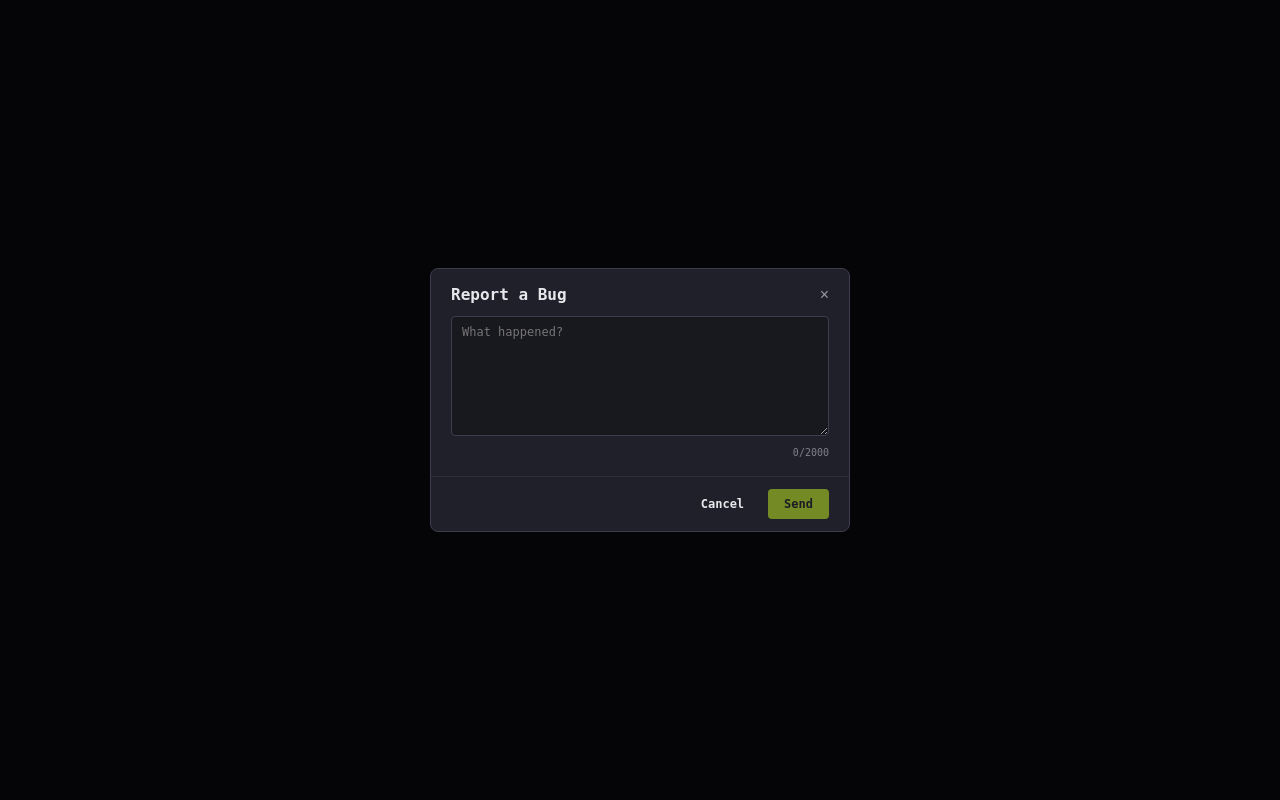
Test: FeedbackDialog › Send button becomes enabled when text is entered
Type "Something broke" into the text box with class "feedback-dialog__textarea" at (640, 376), box [451,316,829,436]
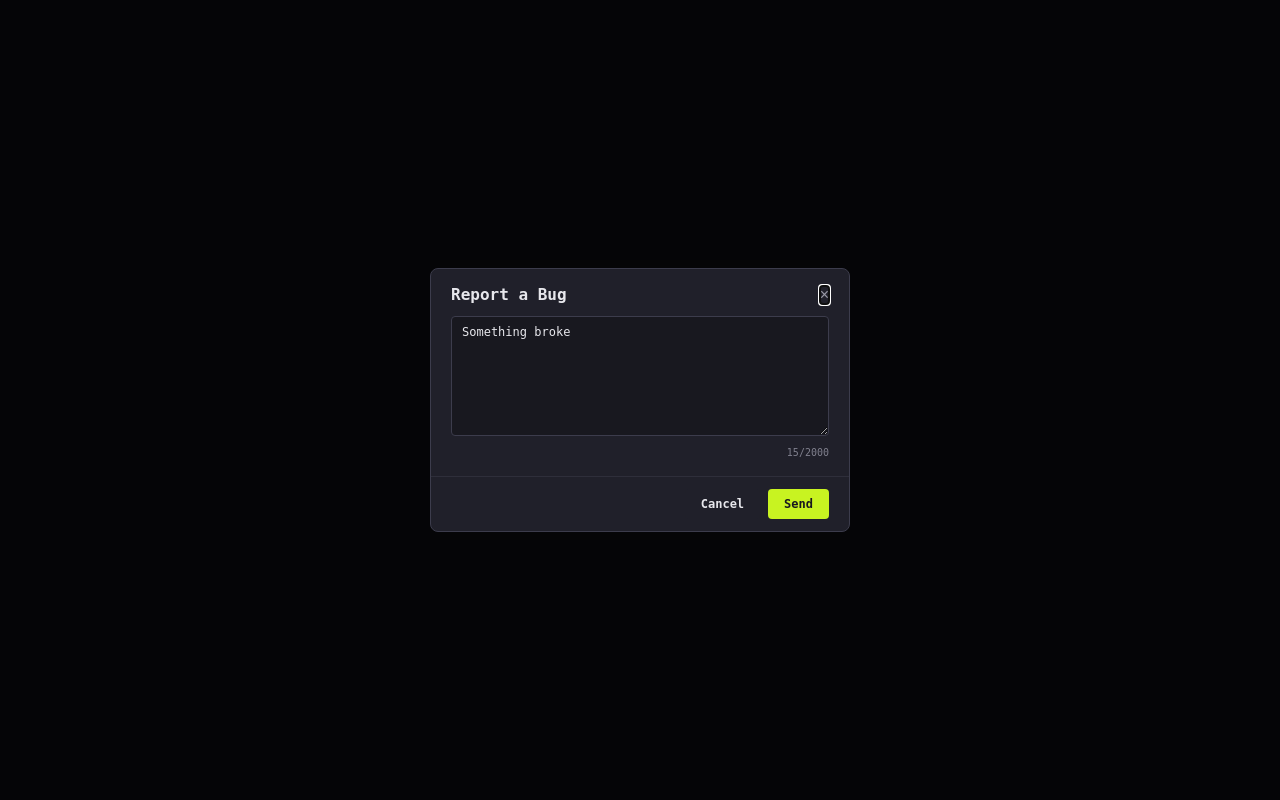
Result: the button with class "feedback-dialog__btn--send" is enabled at [768,489,829,519]
